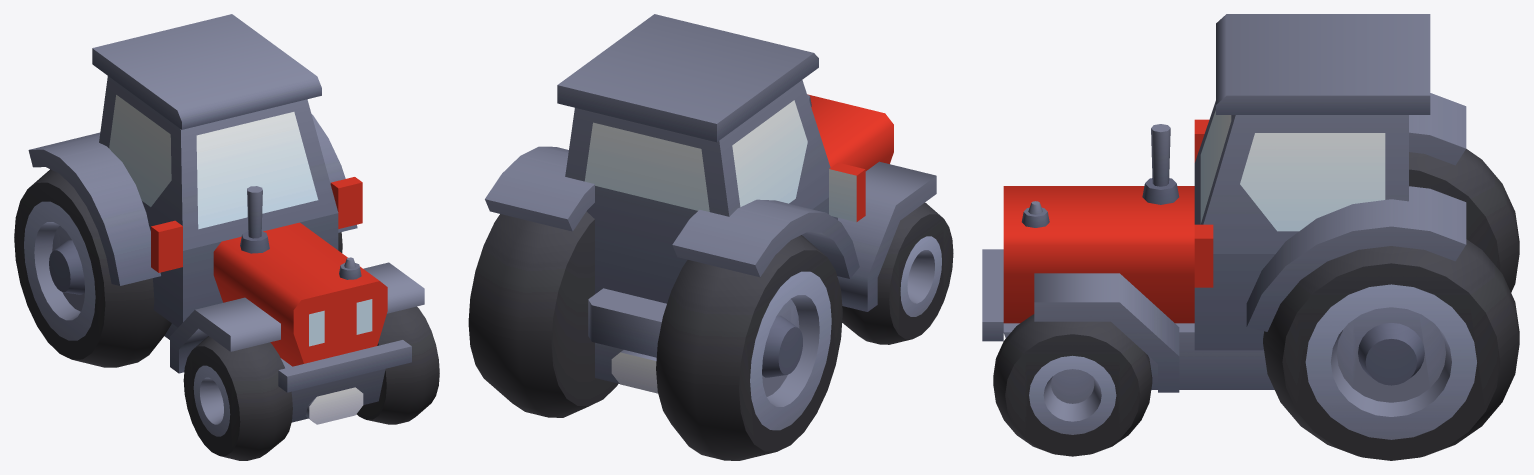
Rendered from tractor1.glb.
The picture shows the model from 3 angles, left to right: view 1: azimuth 30°, elevation 25°; view 2: azimuth 150°, elevation 25°; view 3: azimuth 270°, elevation 25°; orthographic projection. The views are drawn at different scales.
Parts seen in each view (by area): view 1: body, wheel-back-right, body.001, wheel-front-right, wheel-front-left; view 2: body, wheel-back-right, wheel-back-left, wheel-front-right, body.001; view 3: body, wheel-back-left, body.001, wheel-front-left, wheel-back-right.
Boxes of the visible parts, <box> form: body: <box>28,14,424,424</box>; wheel-back-right: <box>14,169,171,367</box>; body.001: <box>151,177,387,366</box>; wheel-front-right: <box>183,336,292,460</box>; wheel-front-left: <box>356,306,439,424</box>; body: <box>485,14,936,393</box>; wheel-back-right: <box>656,235,842,460</box>; wheel-back-left: <box>468,211,618,417</box>; wheel-front-right: <box>842,202,953,344</box>; body.001: <box>807,94,893,221</box>; body: <box>982,14,1466,392</box>; wheel-back-left: <box>1263,239,1519,460</box>; body.001: <box>1003,119,1213,323</box>; wheel-front-left: <box>993,314,1152,456</box>; wheel-back-right: <box>1409,149,1519,292</box>.
Size of the model in its own units: 1.34 by 1.6 by 2.2.
2 materials, 1 textured.
